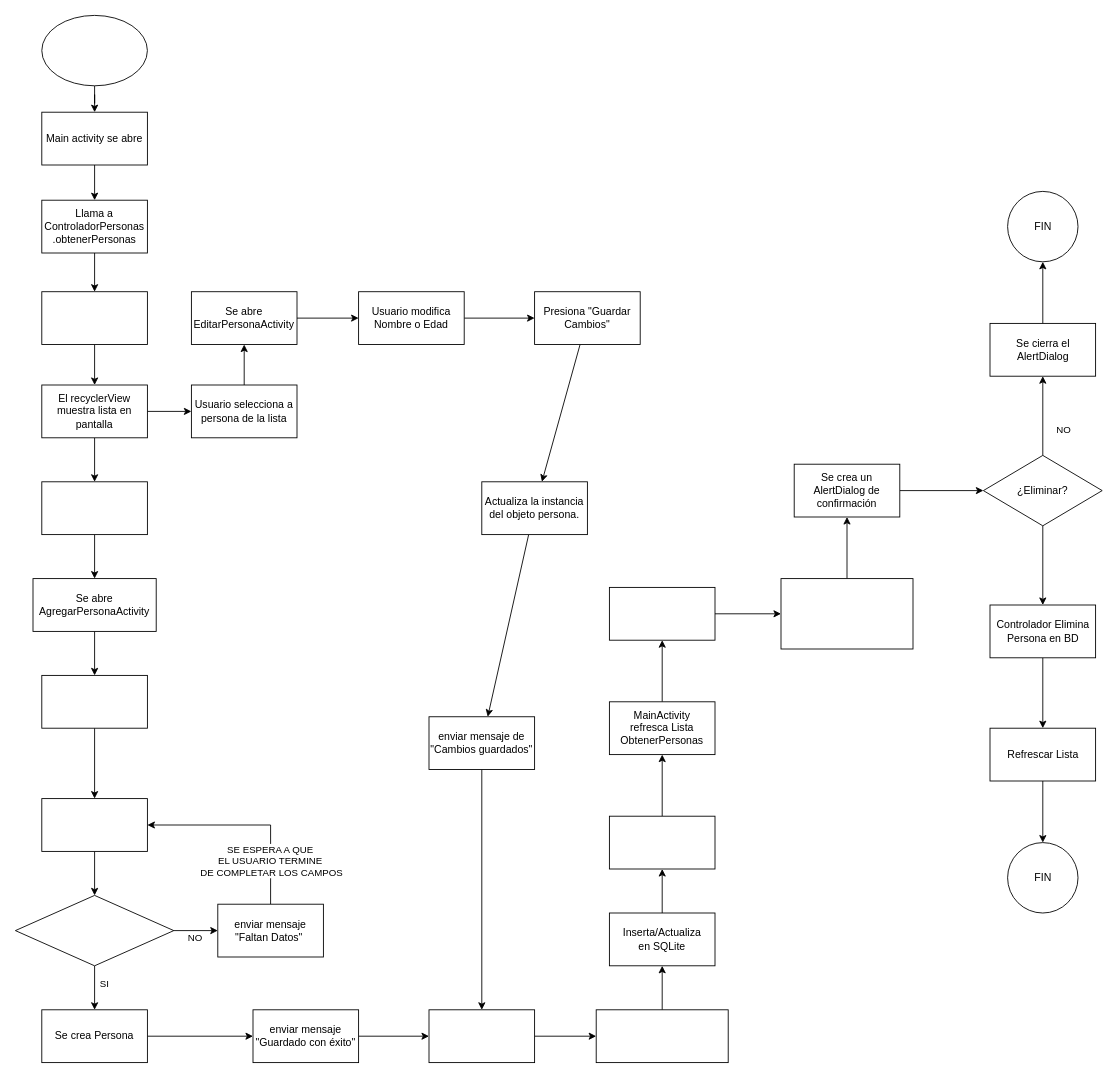
The diagram is 1118 pixels wide and 1078 high, and some of its shapes have lost their labels. Here are the shapes that lost their labels. From the top down, the centre of each, then its label:
point 94,50: Inicia la app
point 94,318: Se obtiene Lista desde la Base de datos
point 94,508: El usuario toca el botón de agregar persona
point 662,613: RecyclerView se Actualiza
point 846,613: Usuario Puede Eliminar Persona (Manteniendo Presionado)
point 94,701: Usuario Agrega Nombre y Edad.
point 94,824: Se presiona "Guardar Persona"
point 662,842: Volver a Main Activity
point 94,930: ¿Los campos están completos?
point 481,1036: Se envia a ControladorPersonas
point 661,1036: Controlador usa a AyudanteBaseDeDatos
